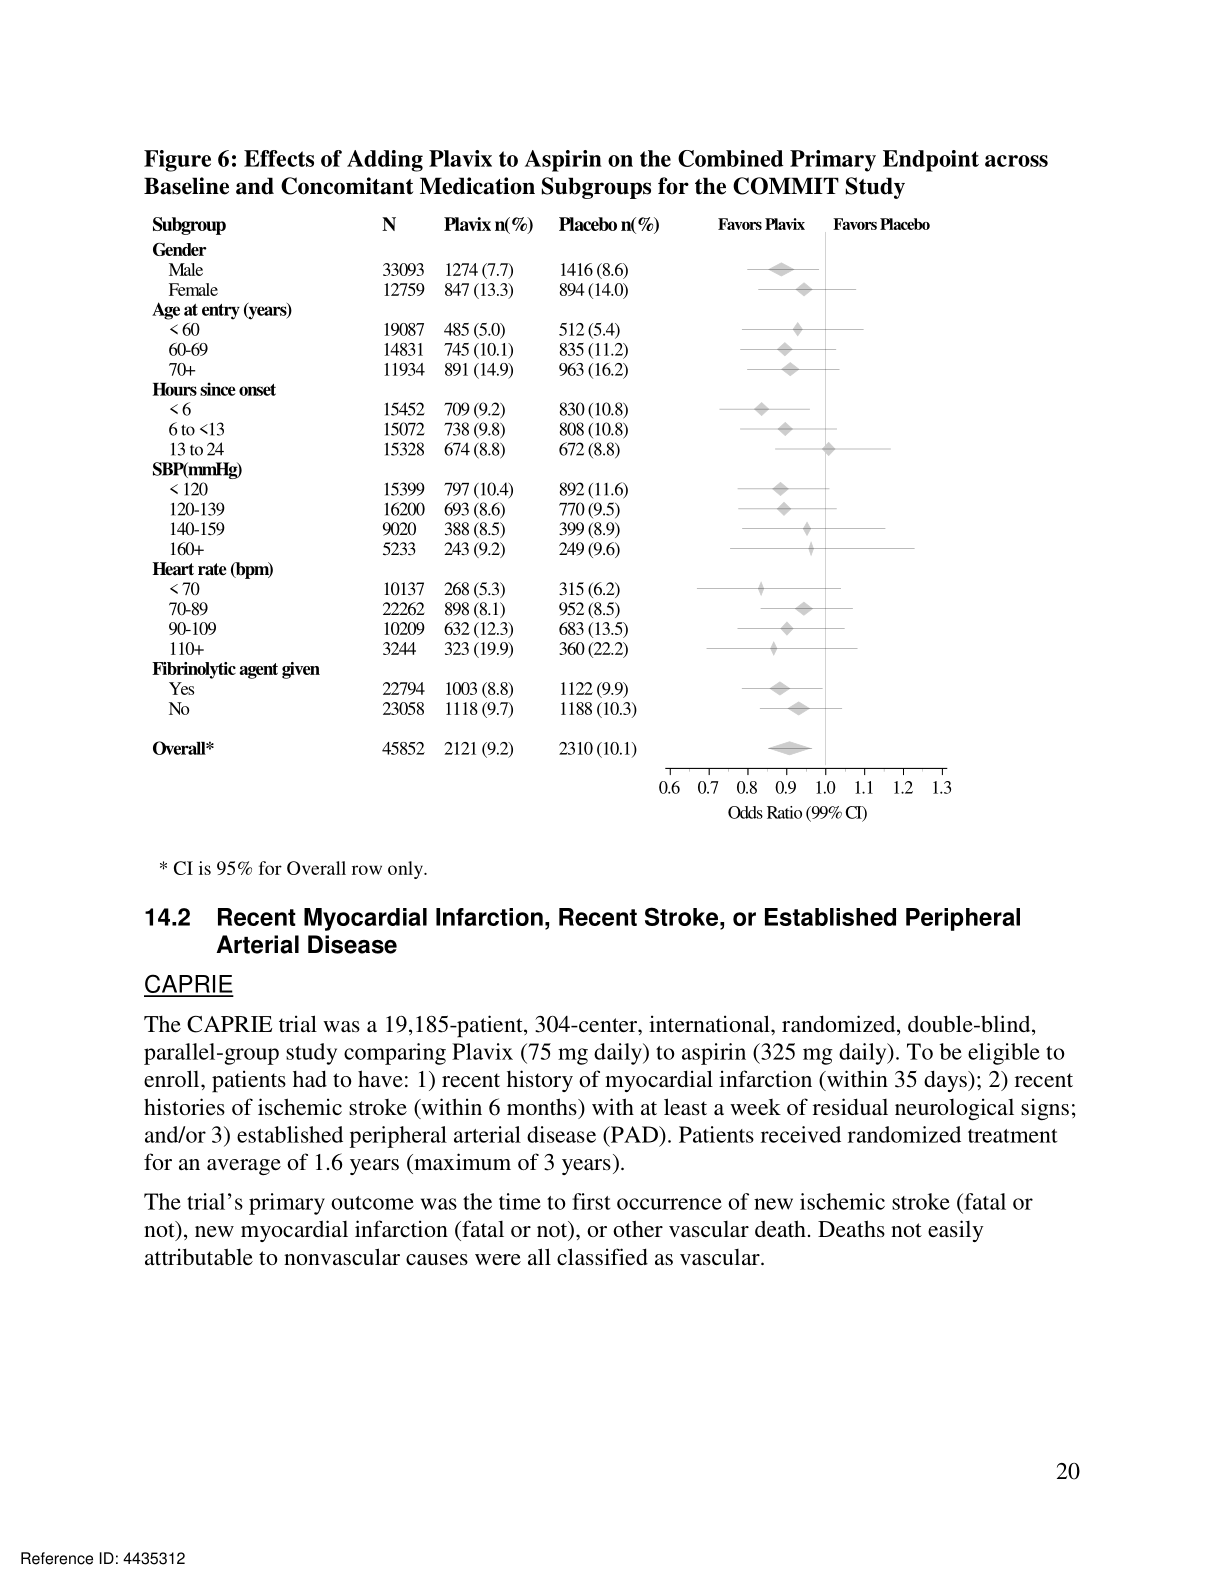nolines: (147, 210, 939, 762)
